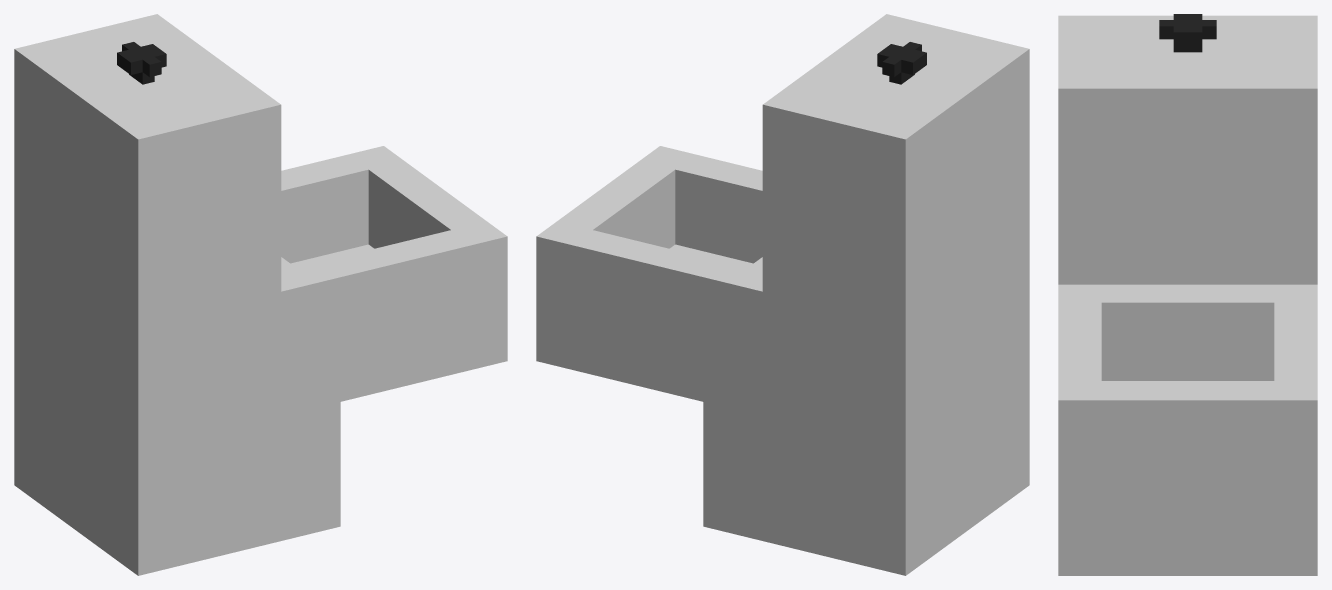
Rendered from toilet.obj.
The picture shows the model from 3 angles, left to right: view 1: azimuth 30°, elevation 25°; view 2: azimuth 150°, elevation 25°; view 3: azimuth 270°, elevation 25°; orthographic projection. The views are drawn at different scales.
Parts seen in each view (by area): view 1: toilet; view 2: toilet; view 3: toilet.
Part boxes in pixels (left/top/right/bottom): toilet: left=14, top=14, right=507, bottom=575; toilet: left=536, top=14, right=1029, bottom=575; toilet: left=1058, top=14, right=1317, bottom=575.
Bounding box in the file's own units: 31 × 37 × 18.
1 material, 1 textured.
